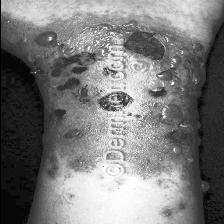Toxin: (130, 31, 168, 59), (141, 83, 184, 101), (29, 31, 59, 52)
